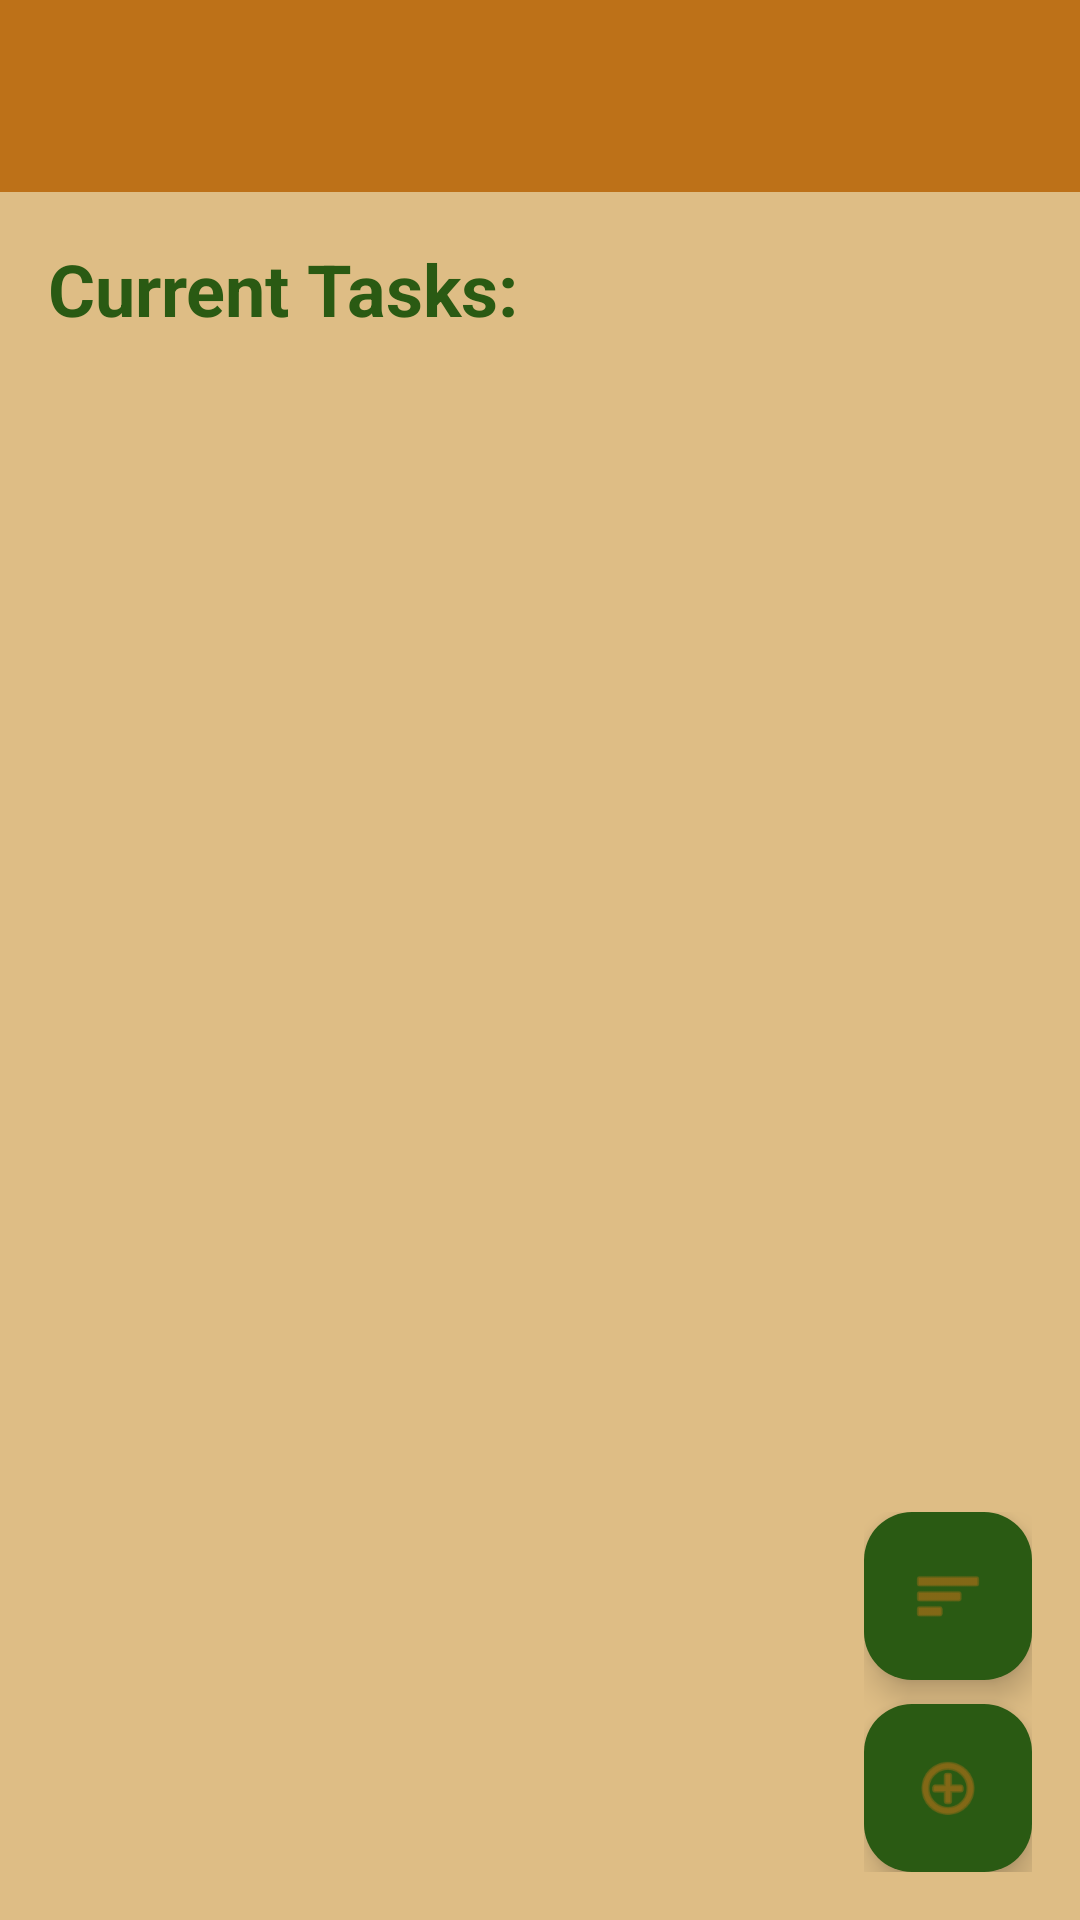

Icons on this 1080*1920 Android screen, each with its box as (x1, y1, x2, y2):
add: (864, 1704, 1032, 1872)
sort by size: (864, 1512, 1032, 1680)
